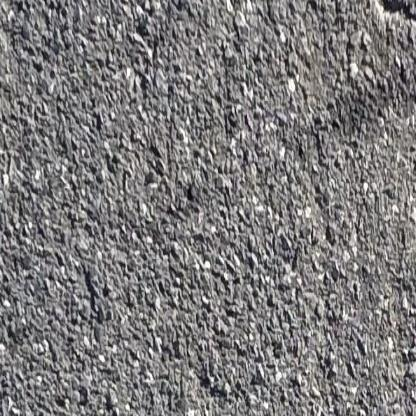Cracks: (364, 0, 416, 50)
